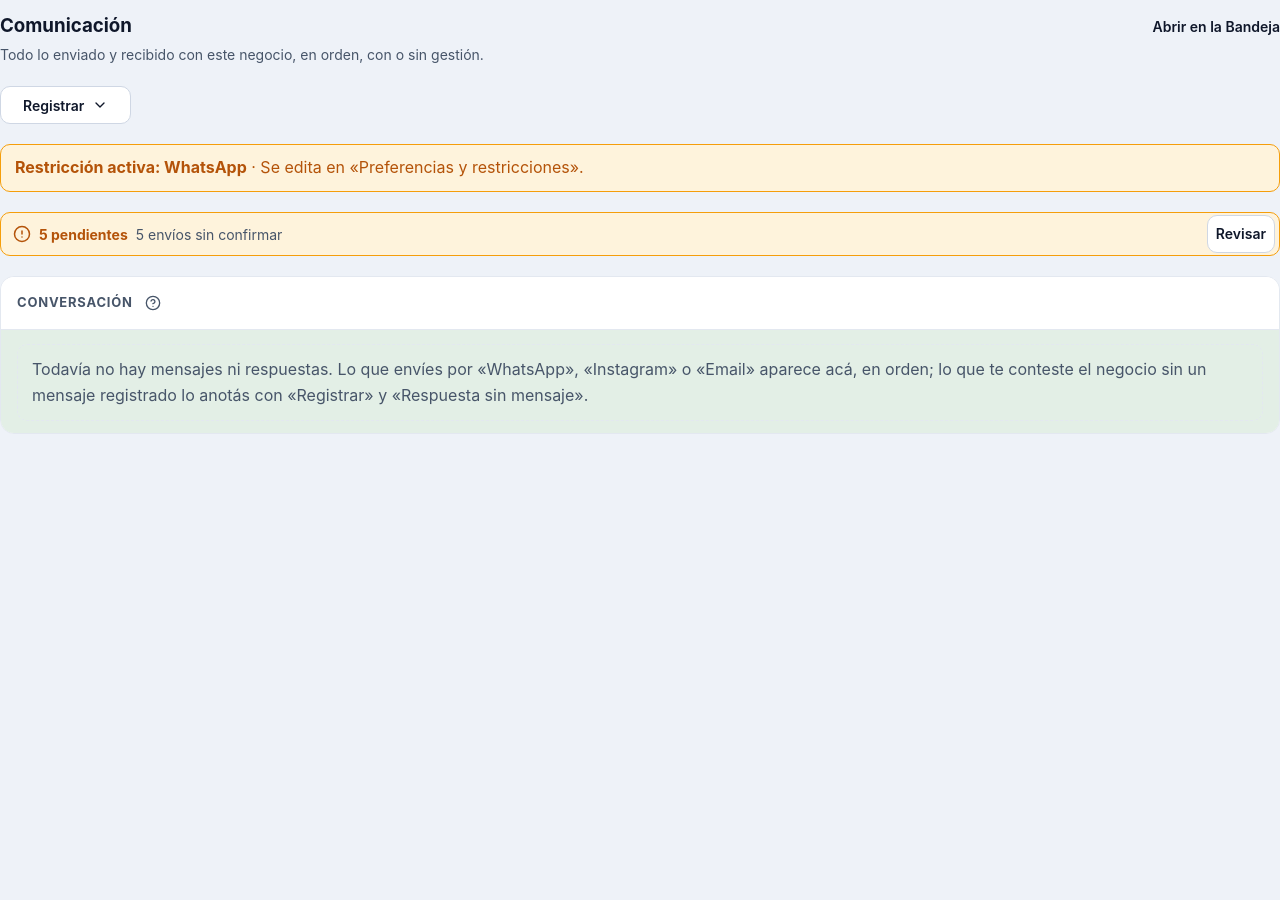
Scenario: Bulk «Sí, se enviaron» / «No se enviaron» (spec 100 §8, D3) › lists what will be marked and, apart, what is blocked with its reason; «No se enviaron» has no blocks
This screenshot has width=1280, height=900.
expect the element "Conversación" is shown: met, box [0, 276, 1279, 434]
Click the button "Revisar".
click(1241, 234)  # box [1207, 215, 1275, 253]
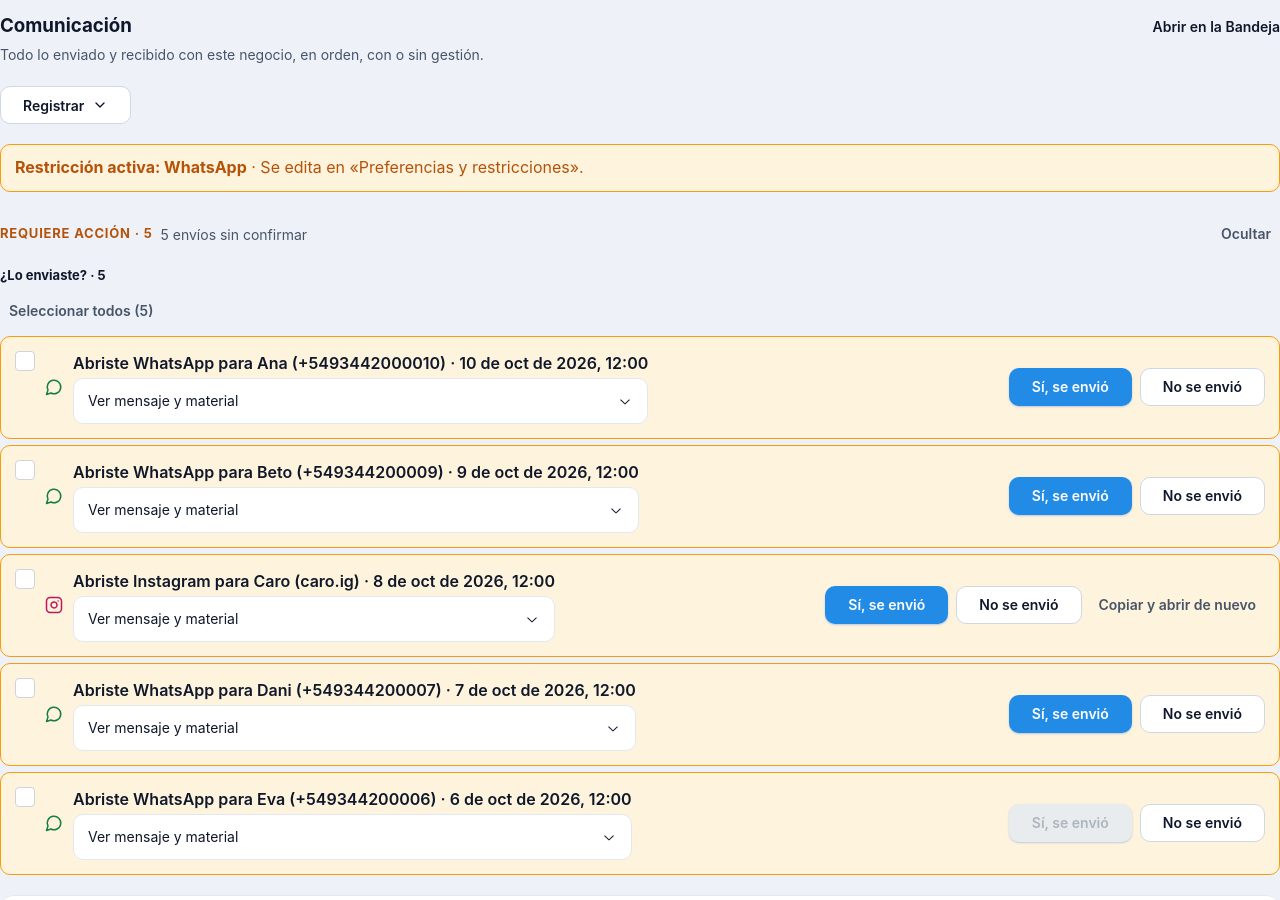
expect the heading "Requiere acción · 5" is shown: met, box [0, 224, 152, 244]
Click the button "Seleccionar todos (5)".
click(81, 311)  # box [0, 292, 162, 330]
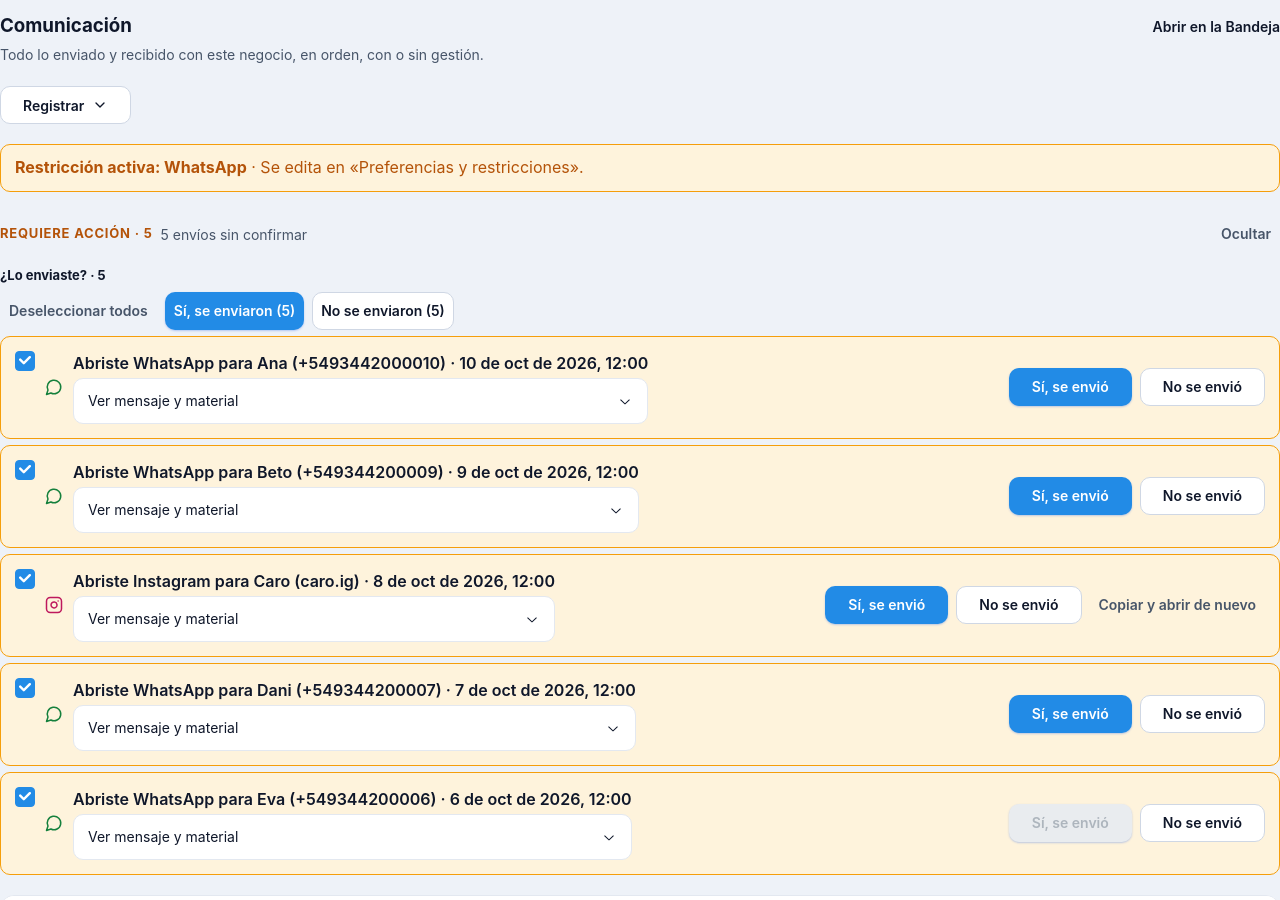
Click the button "Sí, se enviaron (5)".
click(234, 311)  # box [165, 292, 304, 330]
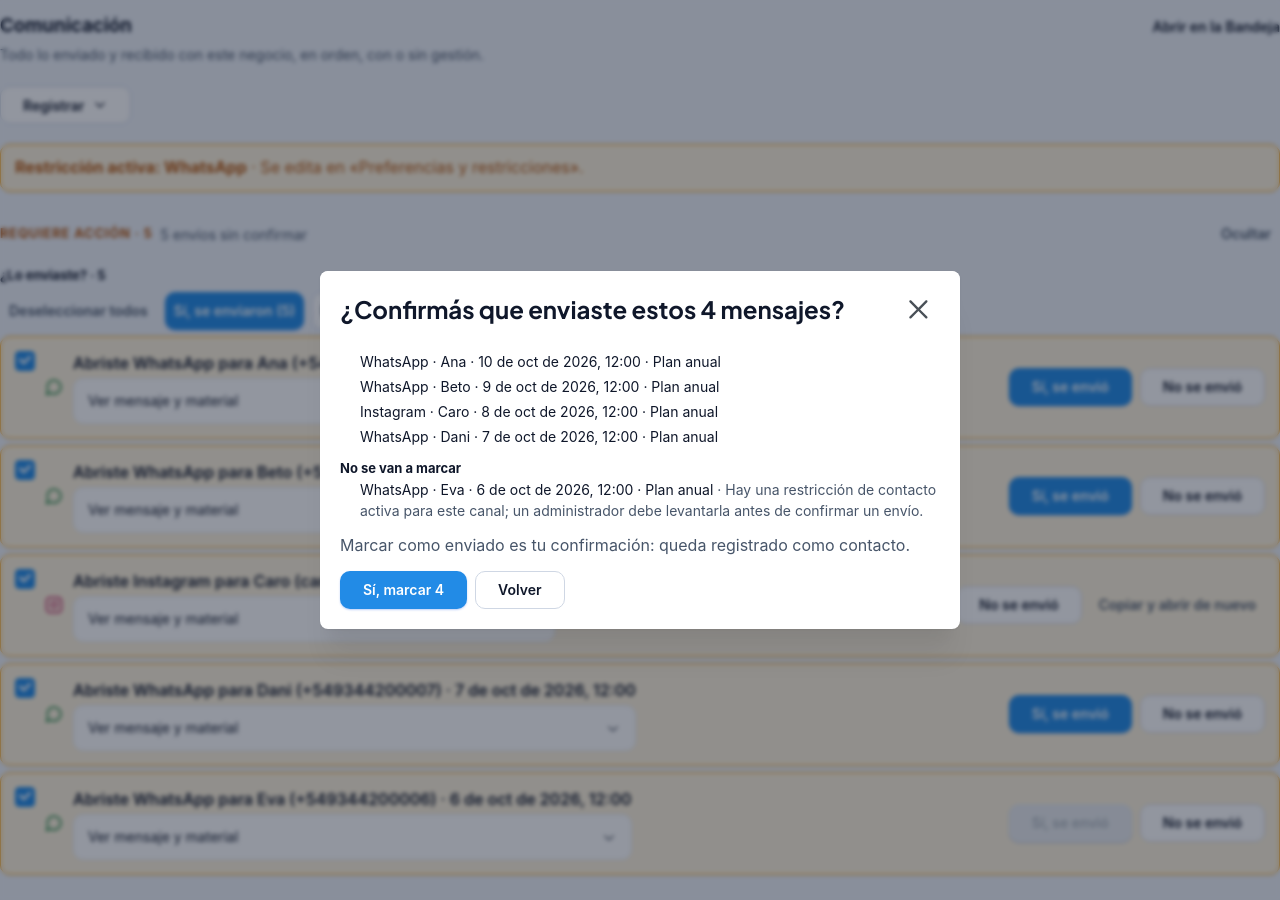
expect the heading "¿Confirmás que enviaste estos 4 mensajes?" is shown: met, box [340, 294, 845, 325]
expect the list item "Eva" shows "Hay una restricción de contacto activa para este canal": met, box [360, 481, 936, 519]
expect the text "Marcar como enviado es tu confirmación: queda registrado como contacto." is shown: met, box [340, 533, 940, 559]
Click the button "Volver".
click(520, 590)  # box [475, 570, 565, 608]
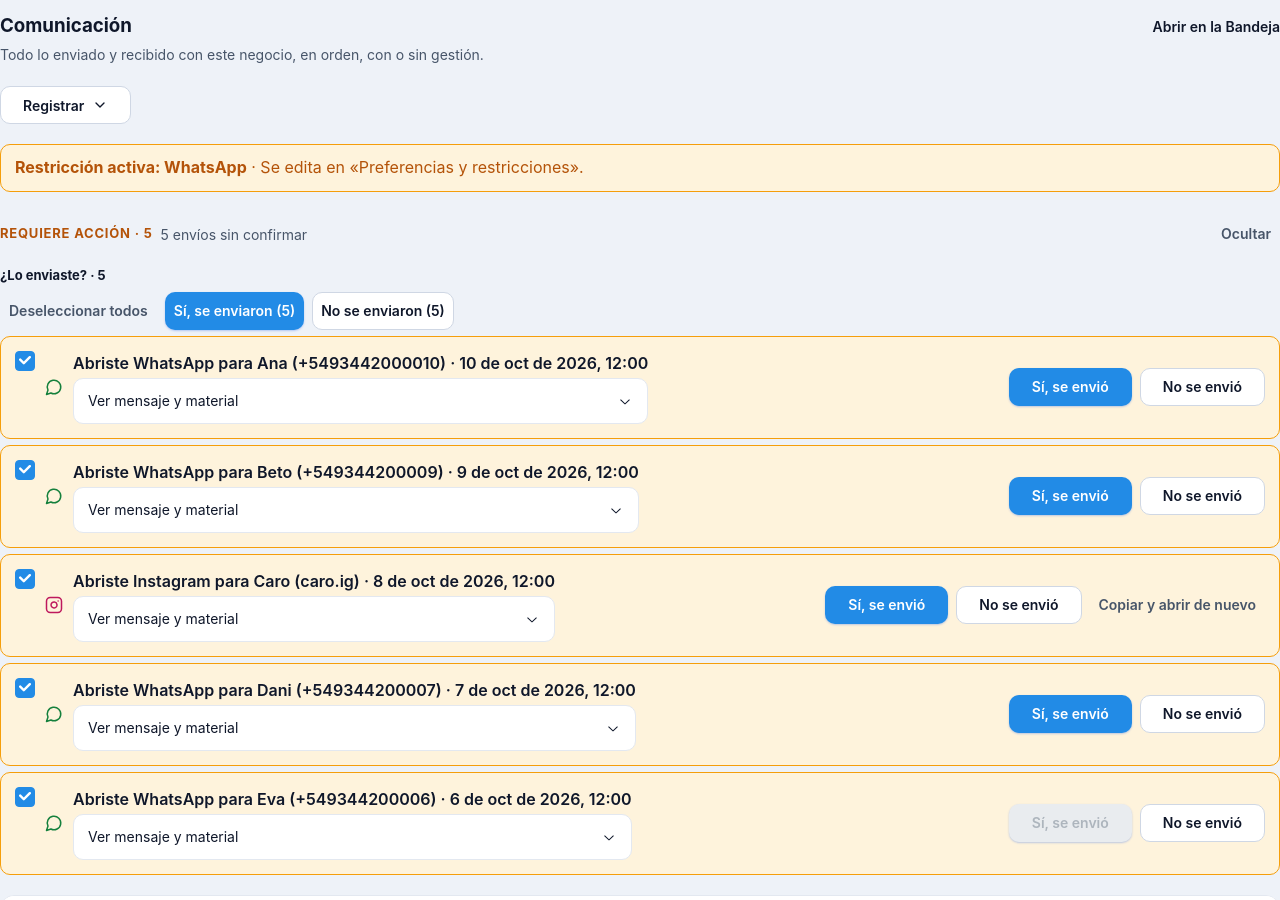
expect the dialog is gone: met
Click the button "No se enviaron (5)".
click(383, 311)  # box [312, 292, 454, 330]
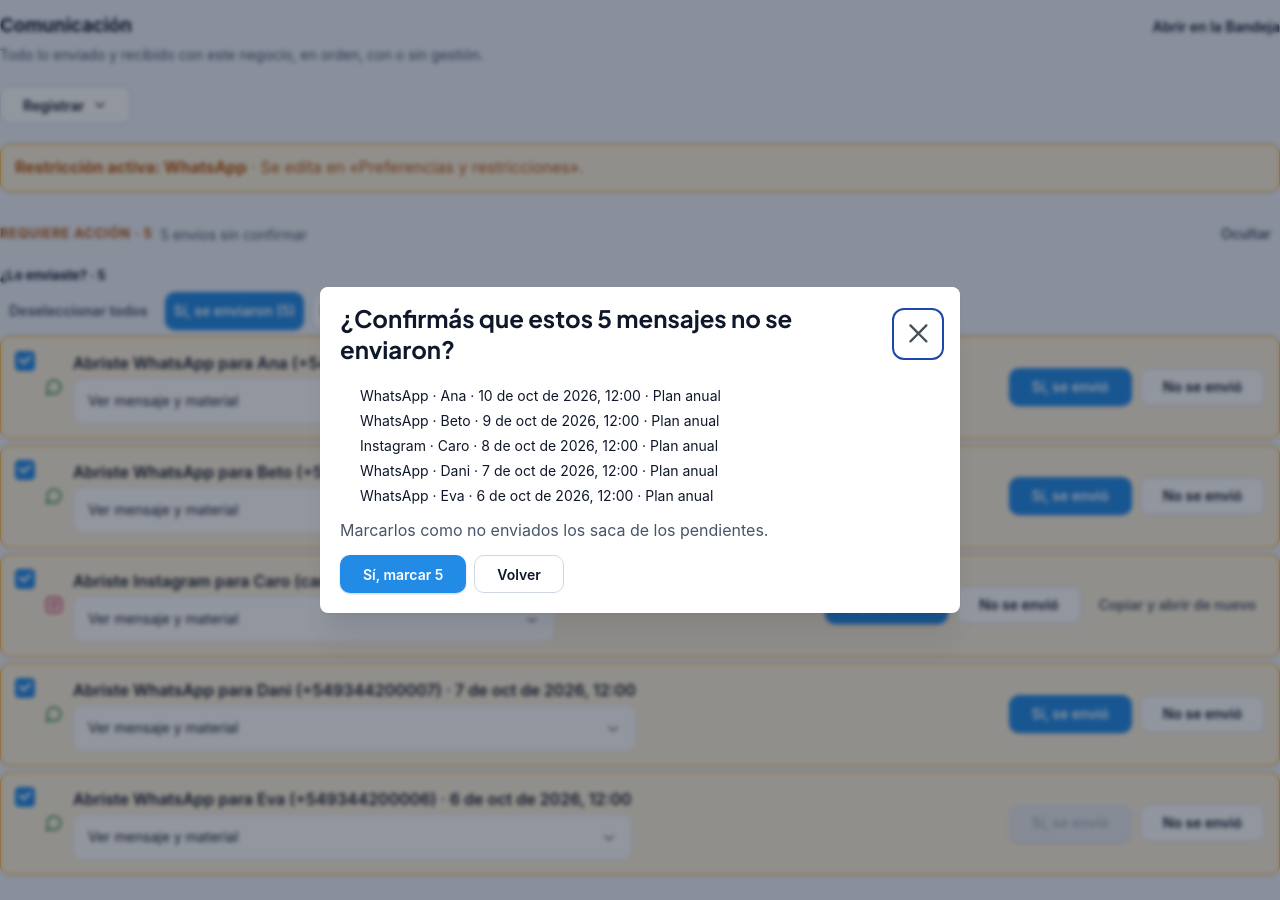
expect the heading "¿Confirmás que estos 5 mensajes no se enviaron?" is shown: met, box [340, 302, 792, 364]
expect the text "Marcarlos como no enviados los saca de los pendientes." is shown: met, box [340, 520, 768, 540]
expect the button "Sí, marcar 5" is shown: met, box [340, 556, 466, 594]
